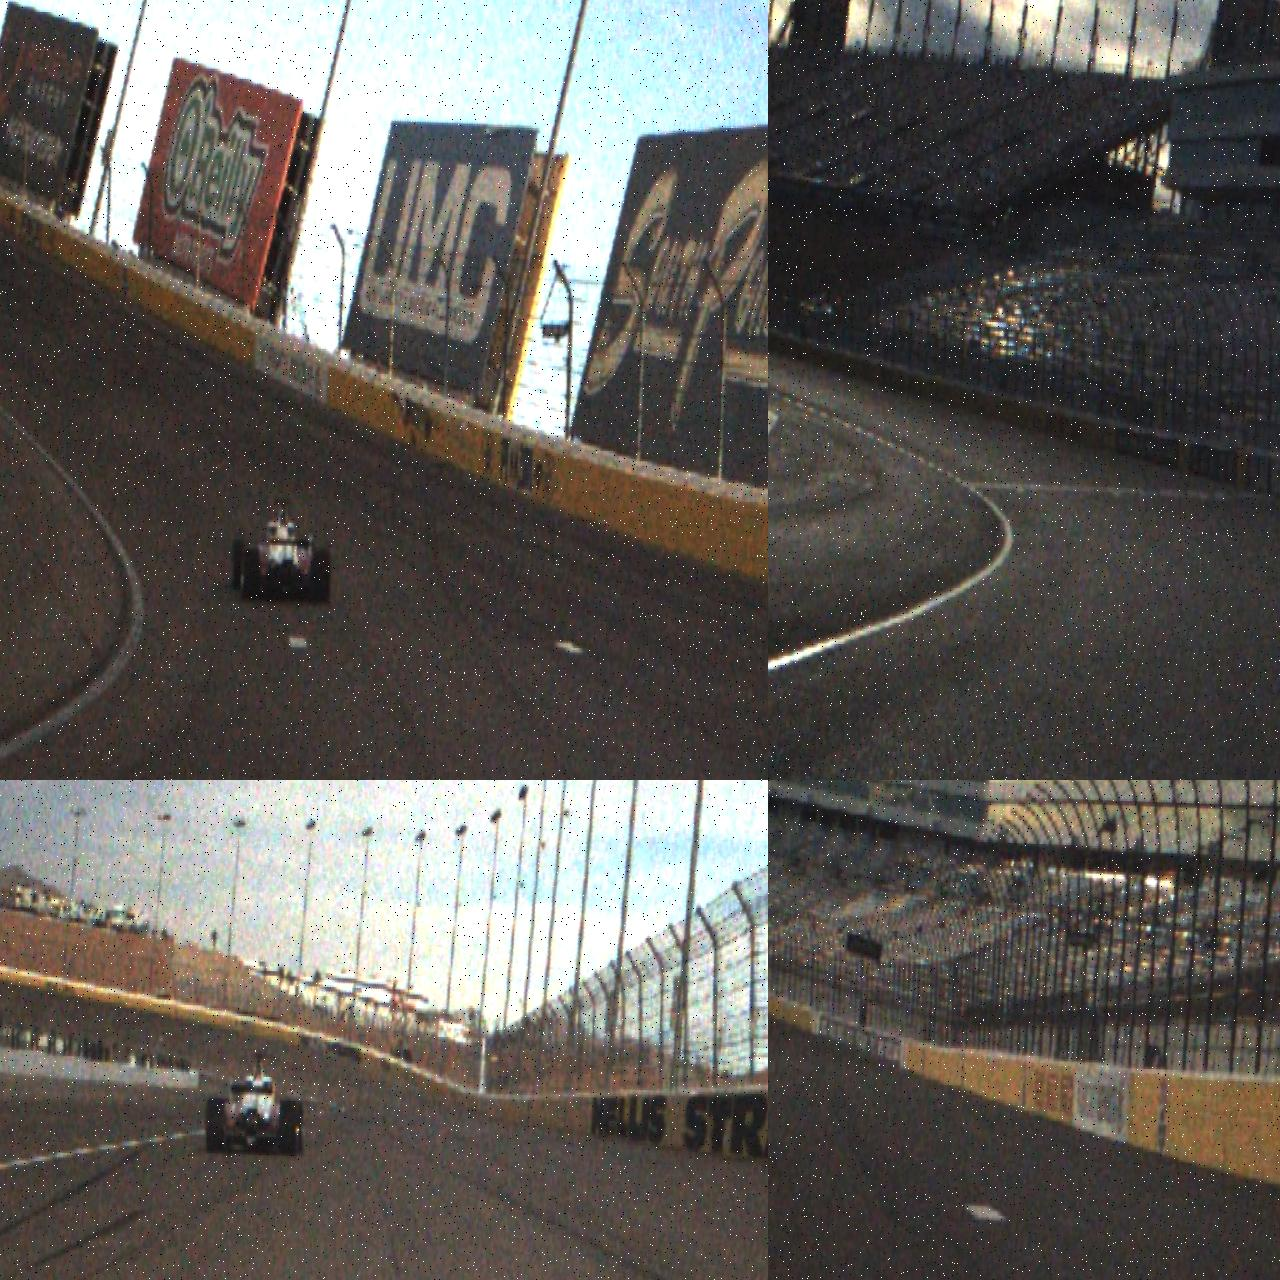AV: (230, 496, 334, 606), (204, 1048, 307, 1157)
Wheel: (204, 1096, 225, 1155), (278, 1098, 299, 1157), (311, 549, 332, 605), (240, 546, 259, 604), (231, 538, 245, 591)
